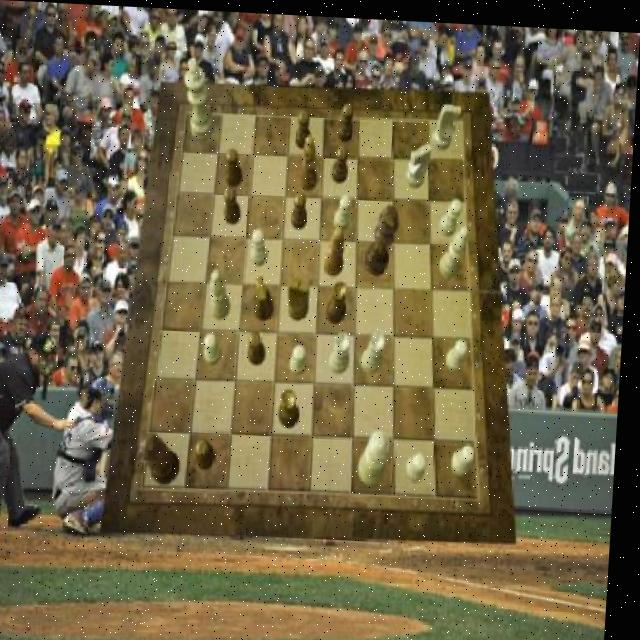bishop: (301, 131, 321, 188), (325, 223, 347, 273)
black-bishop: (366, 200, 402, 274)
black-king: (256, 272, 279, 319), (290, 274, 314, 317)
black-knight: (227, 146, 246, 186), (199, 436, 222, 468), (225, 185, 244, 222), (333, 142, 351, 181), (337, 100, 355, 139), (297, 106, 314, 147), (251, 328, 270, 363), (293, 189, 310, 226)
black-pawn: (143, 431, 188, 484)
black-queen: (329, 277, 351, 320), (283, 386, 306, 427)
black-rook: (440, 220, 470, 275), (211, 266, 236, 318)
white-bishop: (182, 55, 219, 139)
white-king: (433, 99, 462, 146), (406, 138, 433, 183)
white-knight: (440, 194, 464, 232), (455, 439, 480, 473), (449, 334, 472, 369), (251, 226, 270, 264), (335, 191, 353, 228), (207, 330, 226, 364), (410, 449, 432, 478), (294, 342, 312, 372)
white-pawn: (361, 425, 395, 482)
white-queen: (364, 328, 388, 370), (332, 328, 355, 371)
